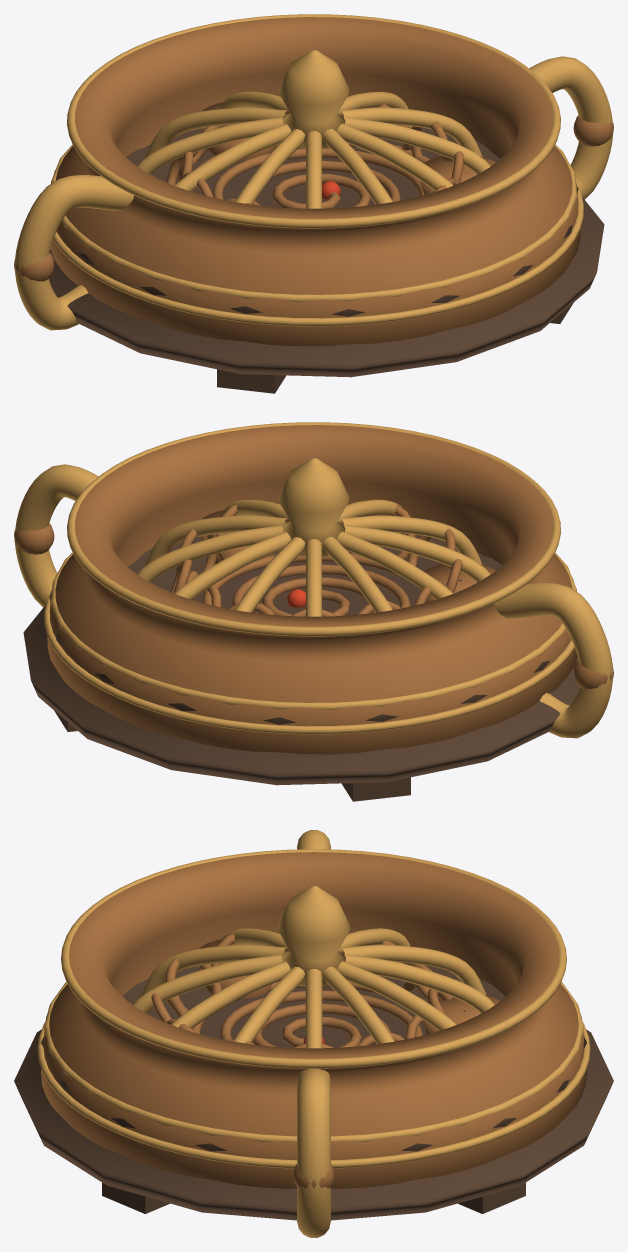
Rendered from xuande_censer.glb.
The picture shows the model from 3 angles, top to bottom: view 1: azimuth 30°, elevation 25°; view 2: azimuth 150°, elevation 25°; view 3: azimuth 270°, elevation 25°; orthographic projection. The views are drawn at different scales.
Parts seen in each view (by area): view 1: censer_body, cedar_stand, lotus_lid, bridge_ears, incense_tray, tripod_feet; view 2: censer_body, cedar_stand, lotus_lid, bridge_ears, incense_tray, tripod_feet; view 3: censer_body, cedar_stand, lotus_lid, bridge_ears, incense_tray, tripod_feet.
Boxes of the visible parts, x1=… form: censer_body: x1=50, y1=14, x2=583, y2=346; cedar_stand: x1=49, y1=127, x2=604, y2=393; lotus_lid: x1=137, y1=50, x2=490, y2=208; bridge_ears: x1=14, y1=56, x2=613, y2=330; incense_tray: x1=192, y1=143, x2=429, y2=208; tripod_feet: x1=200, y1=102, x2=495, y2=194; censer_body: x1=44, y1=422, x2=577, y2=754; cedar_stand: x1=23, y1=534, x2=578, y2=801; lotus_lid: x1=137, y1=458, x2=490, y2=616; bridge_ears: x1=14, y1=464, x2=613, y2=738; incense_tray: x1=187, y1=553, x2=419, y2=615; tripod_feet: x1=200, y1=510, x2=495, y2=602; censer_body: x1=37, y1=849, x2=590, y2=1188; cedar_stand: x1=14, y1=965, x2=613, y2=1220; lotus_lid: x1=133, y1=886, x2=494, y2=1048; bridge_ears: x1=293, y1=830, x2=334, y2=1237; incense_tray: x1=192, y1=981, x2=426, y2=1047; tripod_feet: x1=198, y1=939, x2=500, y2=1034.
Size of the model in its own units: 1.83 by 0.75 by 1.56.
